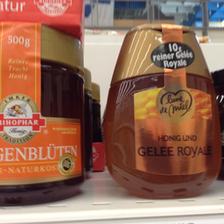honey: (102, 23, 224, 201), (1, 21, 84, 205)
